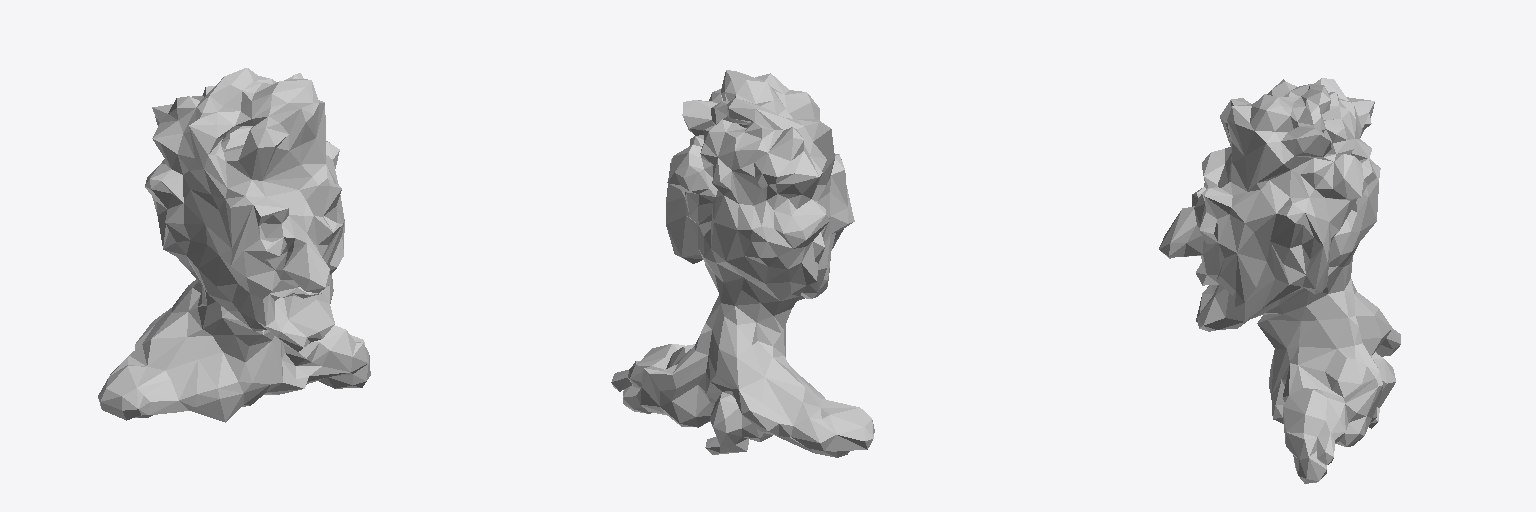
Rendered from BUST-1-703.OBJ.
The picture shows the model from 3 angles: view 1: azimuth 30°, elevation 25°; view 2: azimuth 150°, elevation 25°; view 3: azimuth 270°, elevation 25°; orthographic projection.
Parts seen in each view (by area): view 1: Group15522; view 2: Group15522; view 3: Group15522.
Part boxes in pixels (bbox=[...]): Group15522: bbox=[98, 68, 370, 422]; Group15522: bbox=[611, 70, 874, 457]; Group15522: bbox=[1159, 78, 1400, 483].
Bounding box in the file's own units: 14.31 × 17.82 × 11.51.